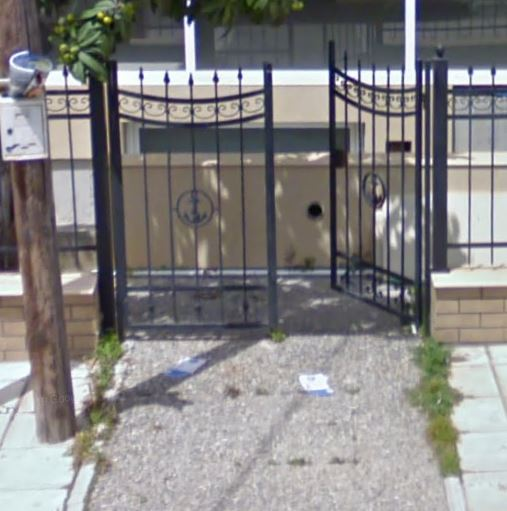trash: (168, 346, 212, 377), (297, 370, 338, 401)
